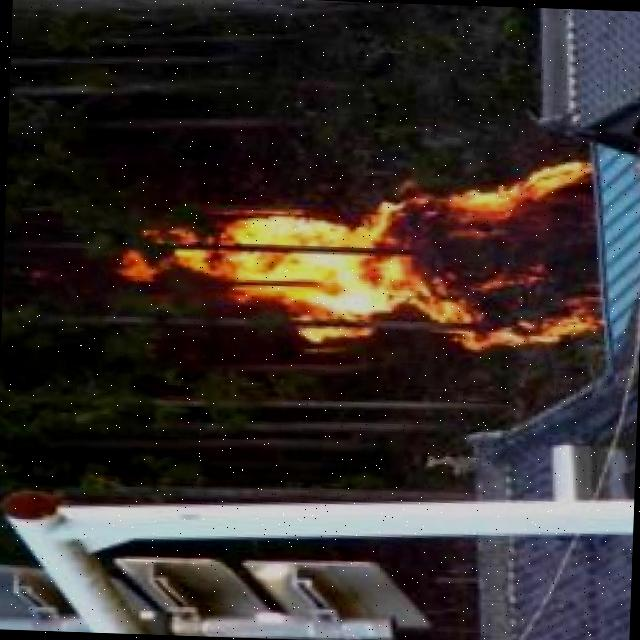fire: (108, 149, 608, 356)
